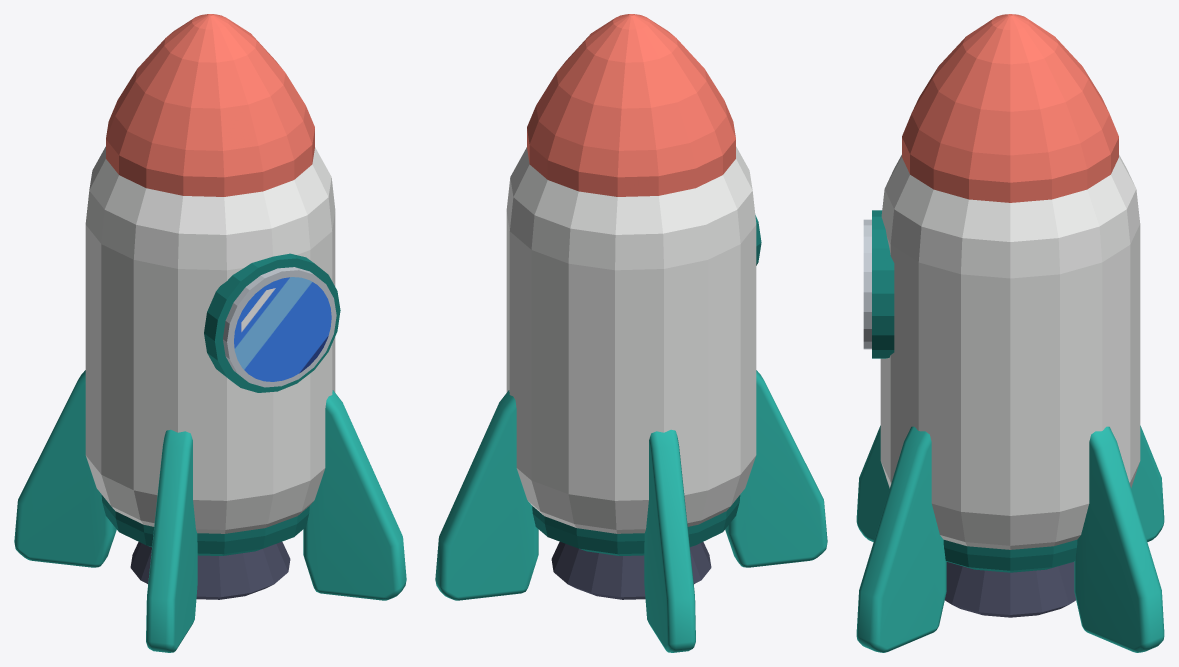
The model's file is asset.glb.
The picture shows the model from 3 angles, left to right: view 1: azimuth 30°, elevation 25°; view 2: azimuth 150°, elevation 25°; view 3: azimuth 270°, elevation 25°; orthographic projection. The views are drawn at different scales.
Visible parts, largest first — view 1: Rounded white fuselage, Coral rounded nose, Teal swept fin 315, Teal swept fin 135, Teal swept fin 225, Painted circular glass, Rocket engine bell, Window outer rim, Lower teal collar, Window bevel rim; view 2: Rounded white fuselage, Coral rounded nose, Teal swept fin 45, Teal swept fin 225, Teal swept fin 135, Rocket engine bell, Lower teal collar; view 3: Rounded white fuselage, Coral rounded nose, Teal swept fin 45, Teal swept fin 315, Rocket engine bell, Lower teal collar, Window outer rim, Teal swept fin 135, Teal swept fin 225, Window bevel rim.
Boxes of the visible parts, box(x1,y1,x2,y2) form: Rounded white fuselage: box(85, 146, 335, 533); Coral rounded nose: box(106, 14, 314, 196); Teal swept fin 315: box(303, 390, 406, 600); Teal swept fin 135: box(14, 370, 116, 567); Teal swept fin 225: box(146, 429, 197, 652); Painted circular glass: box(234, 277, 331, 381); Rocket engine bell: box(130, 542, 290, 599); Window outer rim: box(204, 253, 340, 392); Lower teal collar: box(101, 495, 309, 555); Window bevel rim: box(223, 267, 336, 387); Rounded white fuselage: box(506, 146, 756, 533); Coral rounded nose: box(527, 14, 735, 196); Teal swept fin 45: box(435, 390, 538, 600); Teal swept fin 225: box(725, 370, 827, 567); Teal swept fin 135: box(644, 429, 695, 652); Rocket engine bell: box(551, 542, 711, 599); Lower teal collar: box(532, 495, 740, 555); Rounded white fuselage: box(880, 155, 1140, 549); Coral rounded nose: box(902, 14, 1118, 202); Teal swept fin 45: box(1074, 426, 1164, 652); Teal swept fin 315: box(856, 426, 946, 652); Rocket engine bell: box(945, 562, 1075, 617); Lower teal collar: box(943, 540, 1077, 572); Window outer rim: box(872, 210, 894, 358); Teal swept fin 135: box(1131, 425, 1164, 541); Teal swept fin 225: box(856, 425, 889, 541); Window bevel rim: box(863, 219, 871, 349).
Size of the model in its own units: 0.4819 by 1 by 0.4819.
7 materials, 1 textured.
